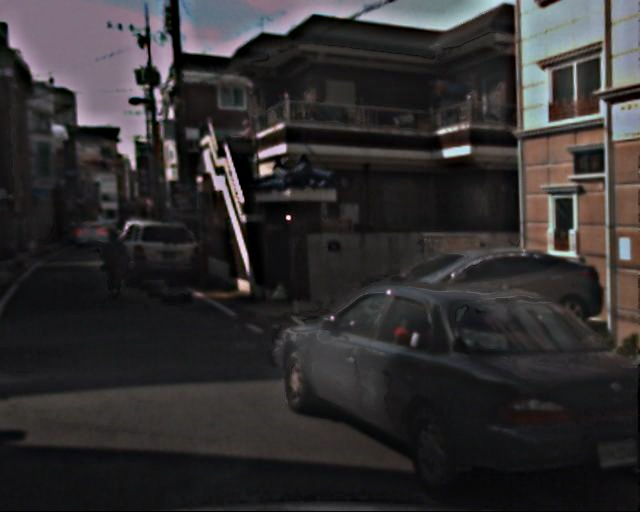person: (101, 229, 130, 300)
